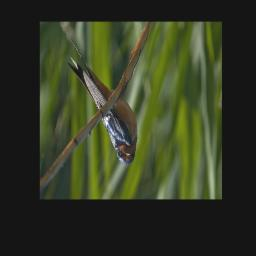Swallow: (66, 33, 138, 165)
